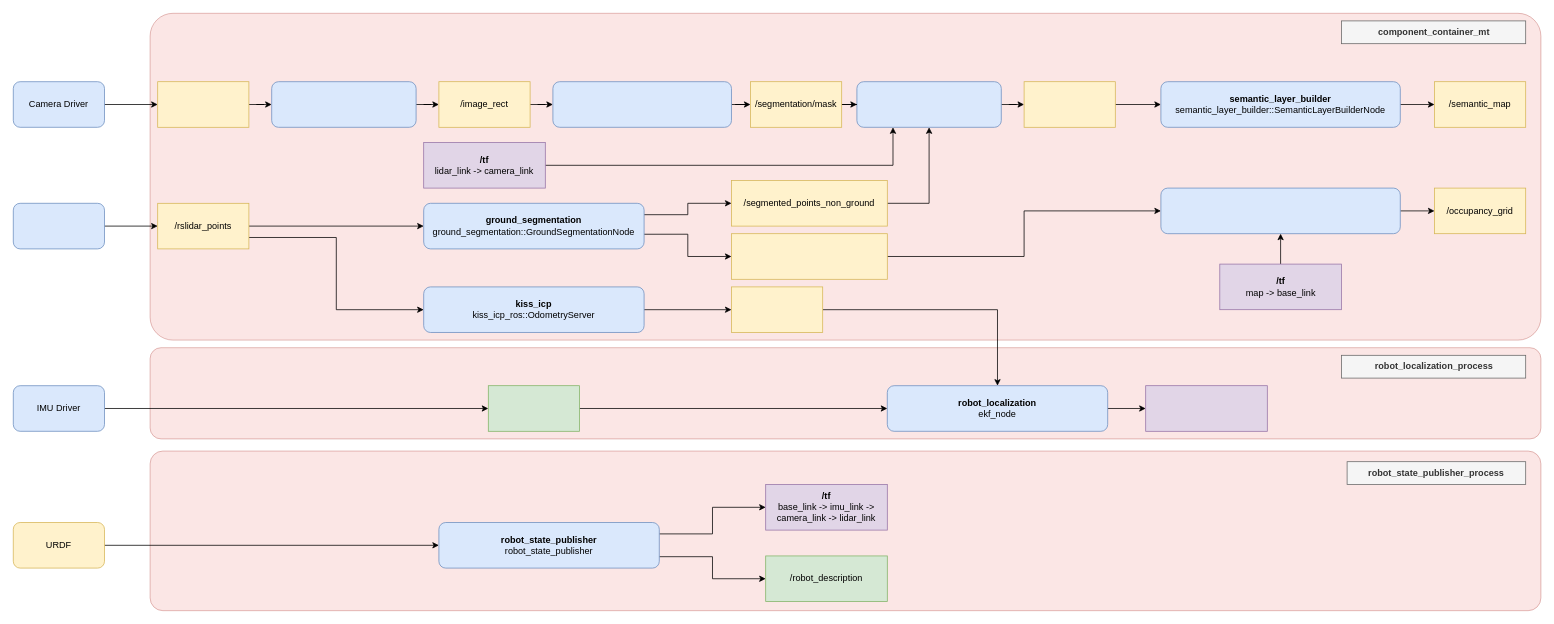
The diagram is 1554 pixels wide and 624 high, and some of its shapes have lost their labels. Here are the shapes that lost their labels. From the top down, the centre of each, then its label:
point 203,104: /image_raw
point 343,104: image_processing image_undistort::ImageUndistort
point 642,104: yolo_onnx_ros yolo_onnx_ros::YoloSegmentorNode
point 928,104: pcl_labeler pcl_labeler::PCLLabelerNode
point 1069,104: /points_labeled
point 58,226: Lidar Driver
point 1280,210: occupancy_grid_builder occupancy_grid_builder::OccupancyGridBuilderNode
point 809,256: /segmented_points
point 777,309: /kiss/odometry
point 534,408: /imu
point 1206,408: /tf map -> odom -> base_link
